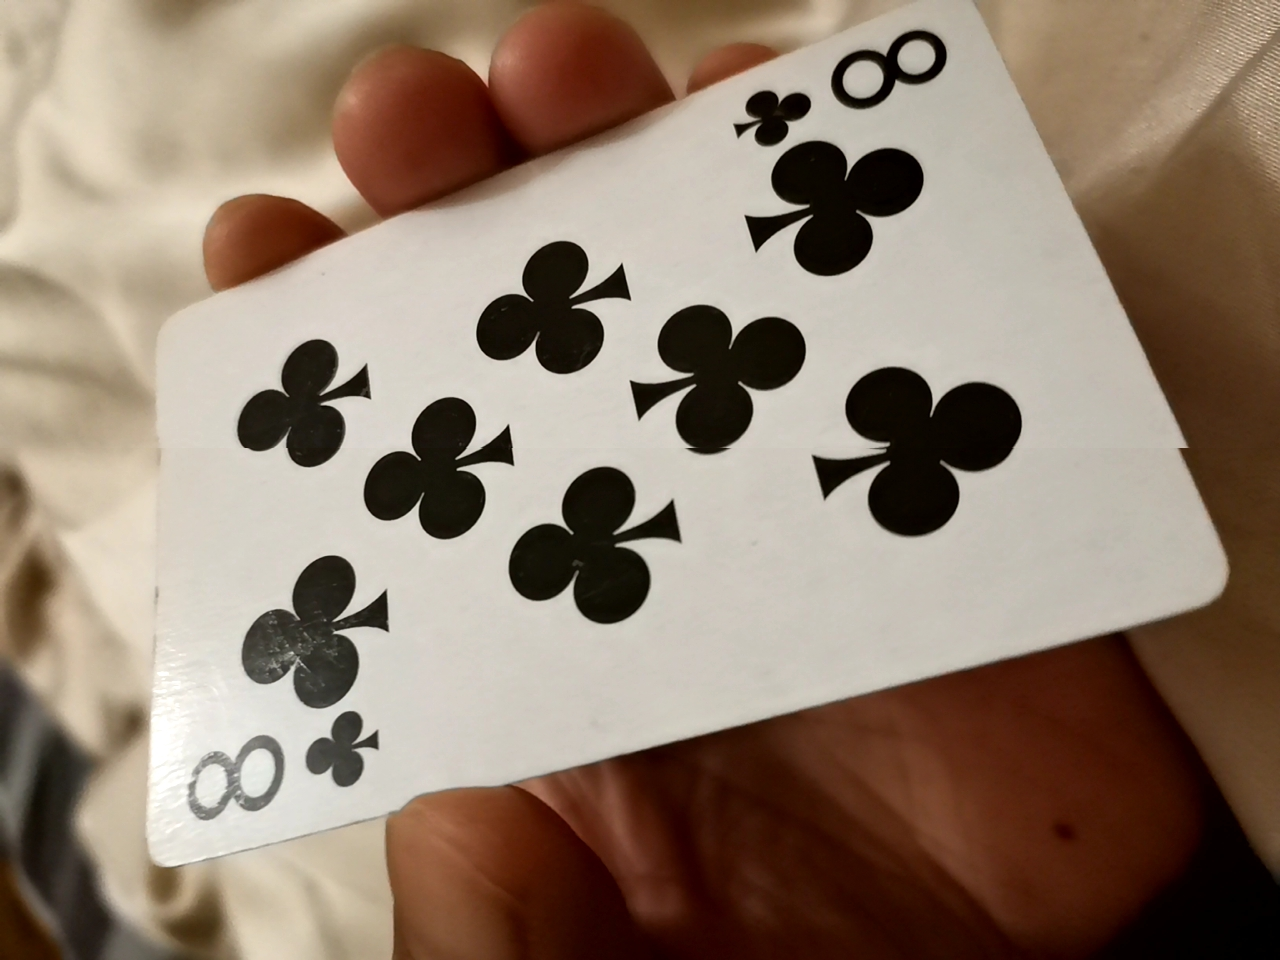mh 8: (107, 21, 1257, 874)
